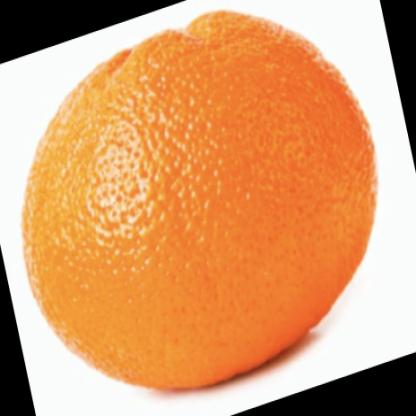fresh: (25, 13, 380, 390)
